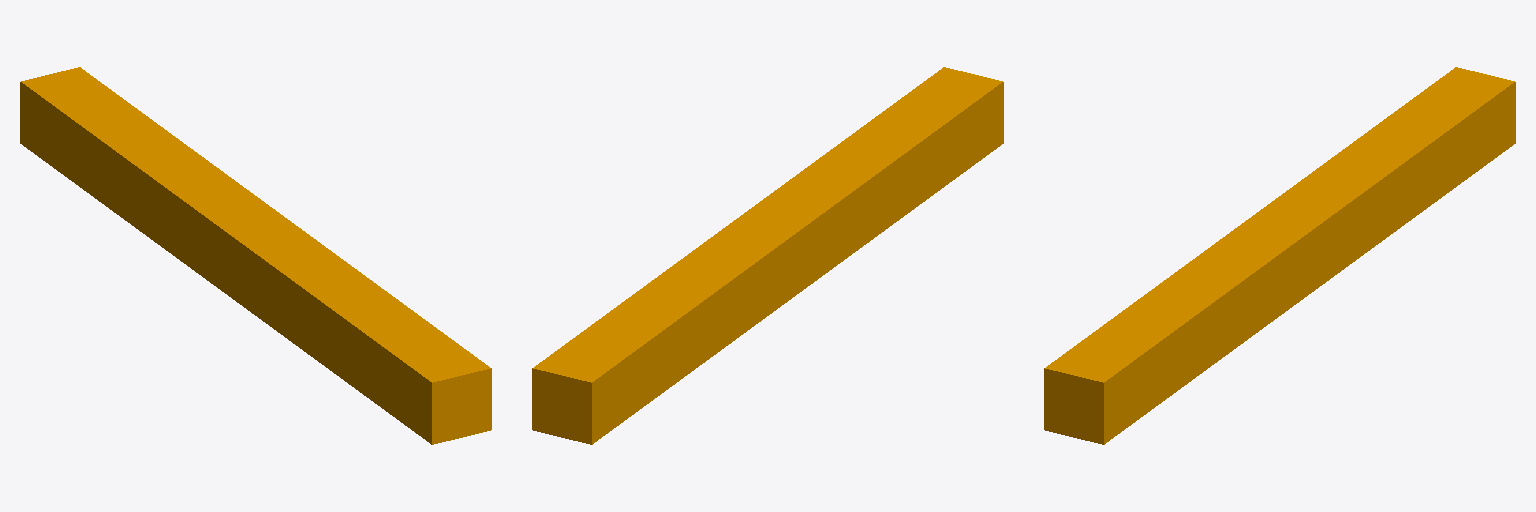
URDF robot description (cuboid):
<?xml version="1.0"?>
<robot name="cuboid">
  <link name="base_link">

    <collision>
      <geometry>
        <box size="1 12 1"/>
      </geometry>
    </collision>

    <inertial>
      <mass value="2"/>
    	<inertia ixx="0.333" ixy="0" ixz="0" iyy="0.833" iyz="0" izz="0.833"/>
  	</inertial>

    <visual>
      <geometry>
        <box size="1 12 1"/>
      </geometry>
    </visual>

  </link>
</robot>

--- What the picture shows (computed from the rendered views, not written in the file) ---
The picture shows the robot from 3 angles, left to right: view 1: azimuth 30°, elevation 25°; view 2: azimuth 150°, elevation 25°; view 3: azimuth 330°, elevation 25°; orthographic projection.
Robot: cuboid — 1 links, 0 joints (none); root link base_link; default pose: all joints at 0.
Visible links, largest first — view 1: base_link; view 2: base_link; view 3: base_link.
Link boxes in pixels (x1=…): base_link: x1=20, y1=67, x2=491, y2=444; base_link: x1=532, y1=67, x2=1003, y2=444; base_link: x1=1044, y1=67, x2=1515, y2=444.
Bounding box of the posed robot: 1 × 12 × 1 m (x, y, z).
Geometry: primitives only (box / cylinder / sphere), no mesh files.